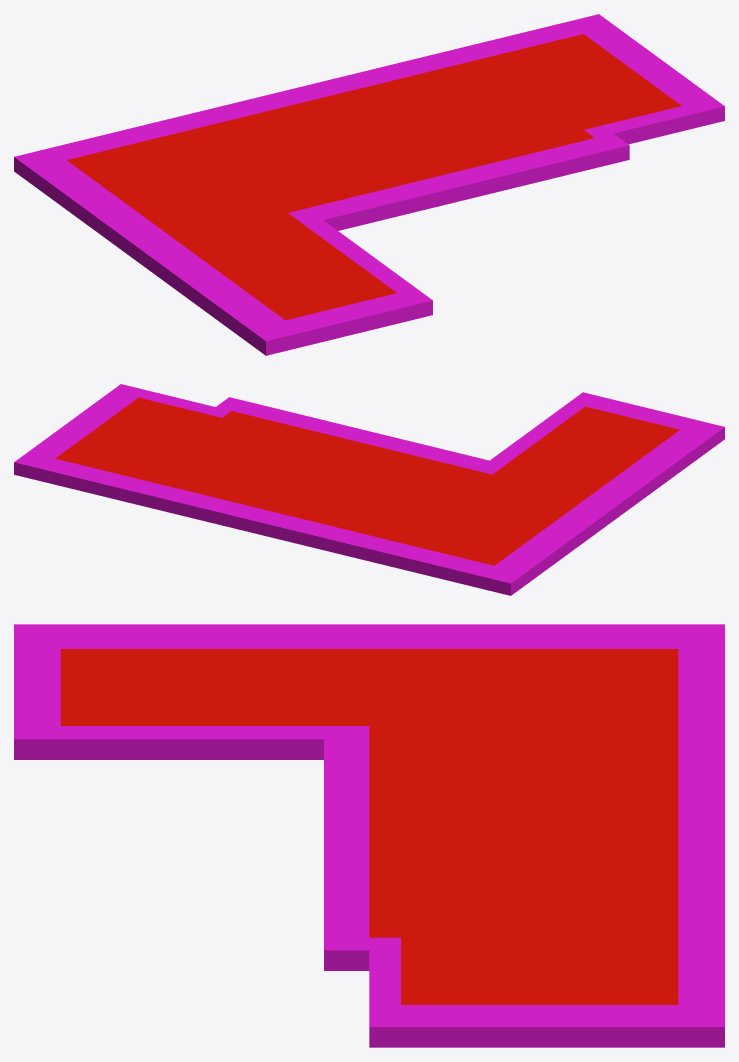
Rendered from 2fFllor 2.fbx.
3 renders of one model, top to bottom at view 1: azimuth 30°, elevation 25°; view 2: azimuth 150°, elevation 25°; view 3: azimuth 270°, elevation 25°, orthographic. The views are drawn at different scales.
Visible parts, largest first — view 1: new2Ffloor; view 2: new2Ffloor; view 3: new2Ffloor.
Boxes of the visible parts, left/top/right/bottom form: new2Ffloor: left=14, top=14, right=724, bottom=355; new2Ffloor: left=14, top=384, right=724, bottom=595; new2Ffloor: left=14, top=624, right=724, bottom=1047.
Bounding box in the file's own units: 976 × 23.24 × 728.
